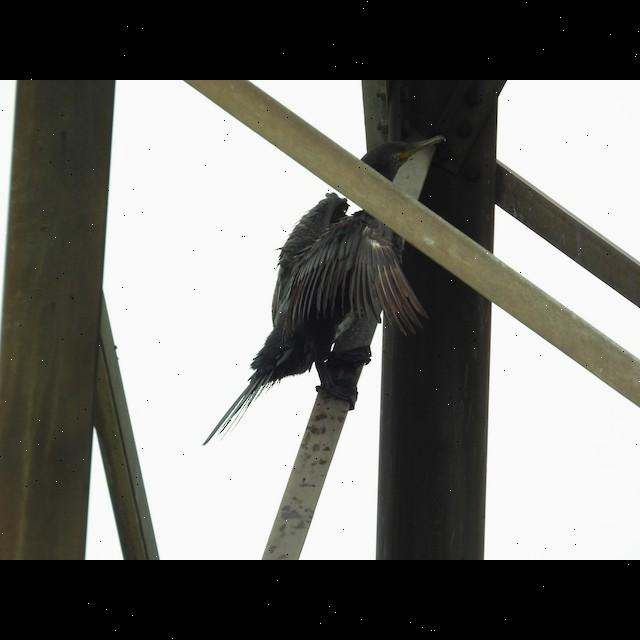cormorant: (200, 123, 456, 450)
